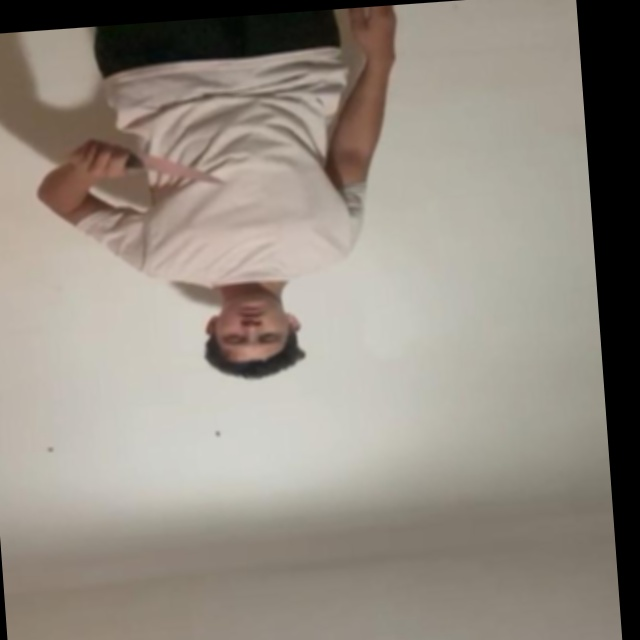Sharp-Object: (142, 154, 220, 187)
